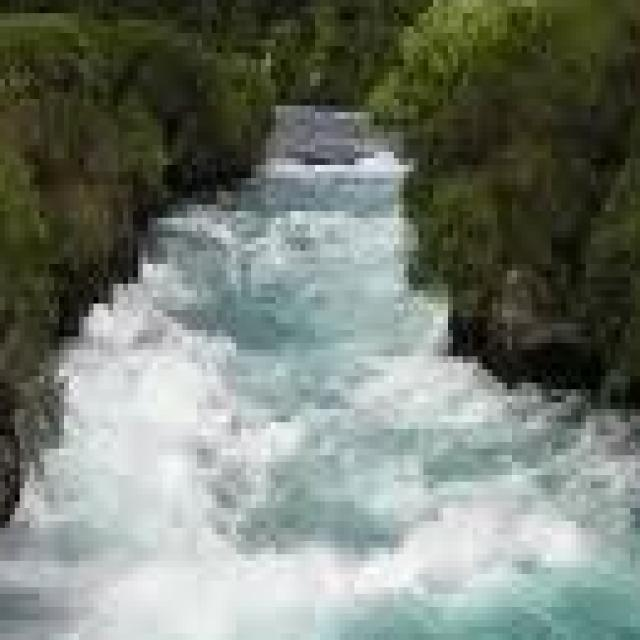-: (172, 290, 399, 640), (448, 468, 640, 640)
